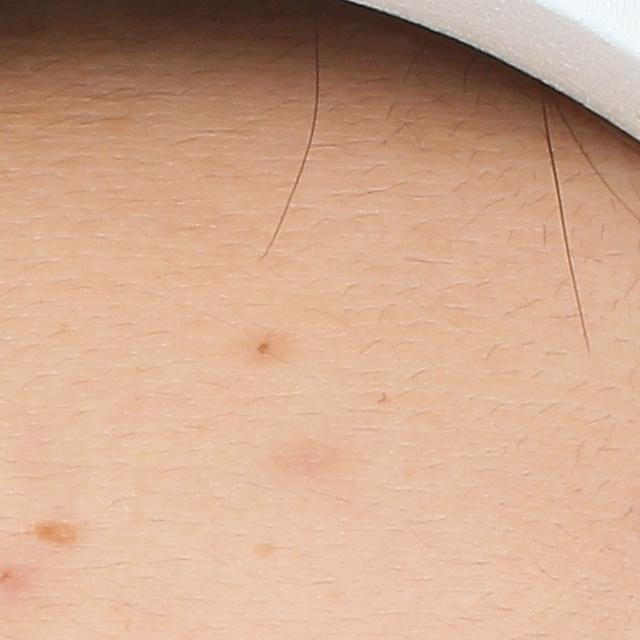melasma: (29, 519, 78, 544)
